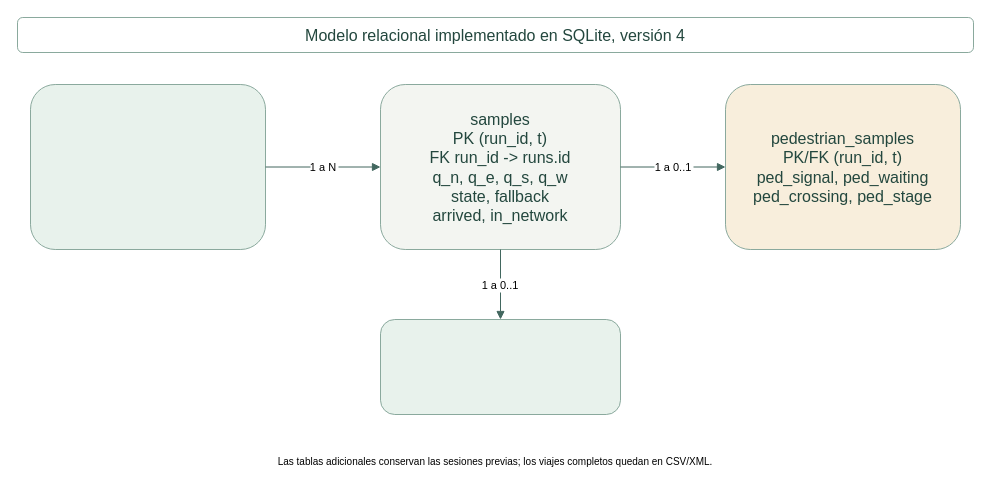
Image size: 991x485. Some labels were removed from this diagram. Here are the shapes that lost their labels. From the top down, the box of each, then its label:
(30, 84, 266, 250): runs PK id scenario, mode, seed created_at, status config_json, summary_json
(380, 318, 620, 414): cooperative_samples PK/FK (run_id, t) payload_json: V2I y cámara
